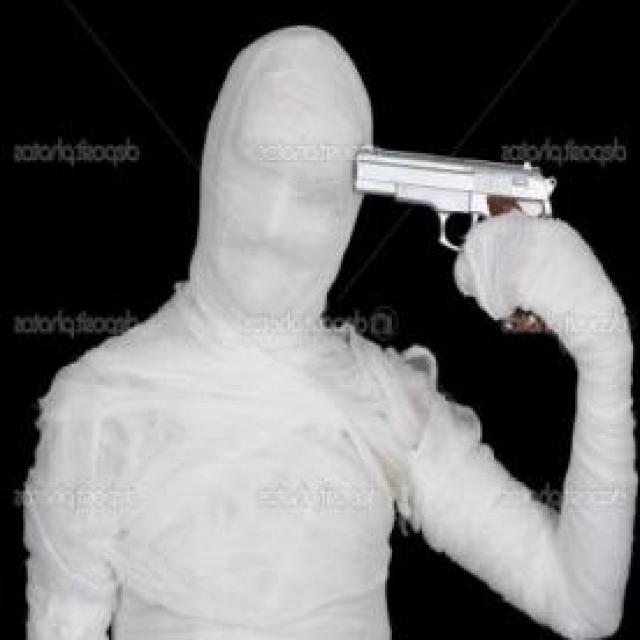pistol: (346, 135, 568, 343)
